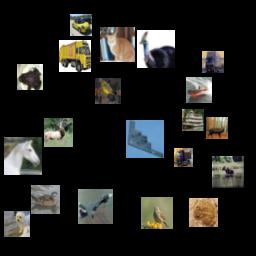airplane: (126, 120, 164, 158), (78, 189, 113, 224)
automobile: (70, 14, 92, 36)
bird: (137, 30, 175, 68), (141, 197, 173, 229), (31, 185, 60, 214), (95, 78, 121, 104)
cat: (100, 27, 135, 62)
deer: (212, 156, 244, 188), (44, 118, 73, 147), (206, 117, 228, 139)
dog: (4, 211, 30, 237)
frog: (189, 198, 218, 227), (17, 64, 43, 90)
ship: (186, 77, 212, 103), (182, 109, 204, 131)
truck: (59, 40, 91, 72), (202, 51, 224, 73), (174, 148, 193, 167)
